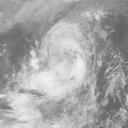cyclone: (20, 21, 98, 104)
